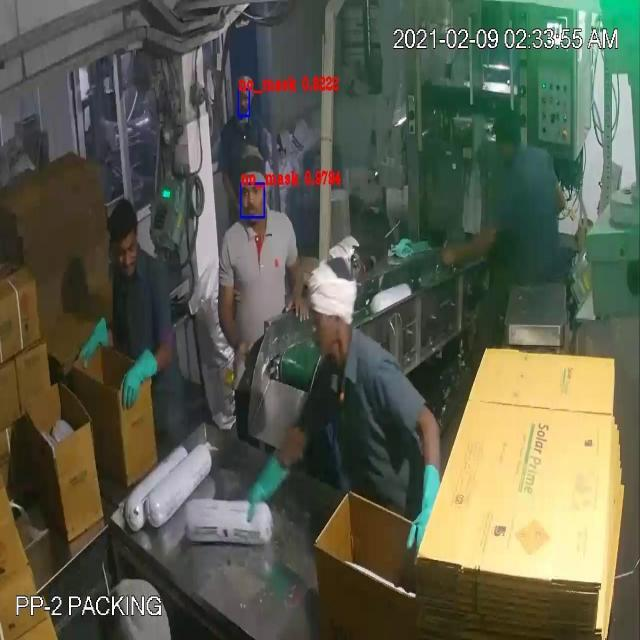Gloves: (26, 62, 474, 510)
